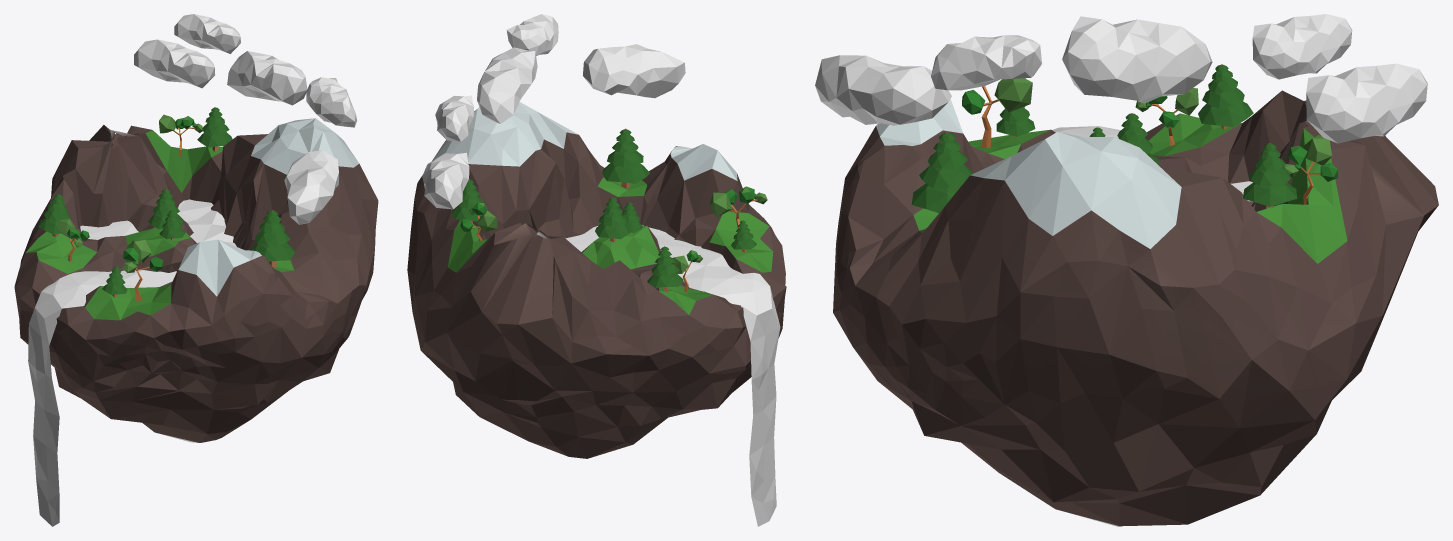
Rendered from PolyIsland.fbx.
3 views of the same model, side by side, from view 1: azimuth 30°, elevation 25°; view 2: azimuth 150°, elevation 25°; view 3: azimuth 270°, elevation 25° (orthographic). The views are drawn at different scales.
Visible parts, largest first — view 1: Icosphere, Plane, Icosphere.003, Icosphere.002, Icosphere.001, Icosphere.005, Icosphere.004, Plane.003, Cube, Plane.005, Plane.004, Plane.001 (+4 smaller); view 2: Icosphere, Plane, Icosphere.002, Icosphere.003, Icosphere.001, Plane.003, Icosphere.005, Icosphere.004, Cube, Plane.001, Plane.004, Cube.001 (+2 smaller); view 3: Icosphere, Icosphere.003, Icosphere.001, Icosphere.002, Icosphere.004, Icosphere.005, Plane.003, Plane.004, Plane.005, Cube, Cube.001, Cube.003 (+2 smaller).
Boxes of the visible parts, left/top/right/bottom form: Icosphere: left=14, top=118, right=378, bottom=442; Plane: left=28, top=199, right=236, bottom=526; Icosphere.003: left=227, top=51, right=307, bottom=105; Icosphere.002: left=284, top=150, right=338, bottom=224; Icosphere.001: left=134, top=39, right=214, bottom=88; Icosphere.005: left=306, top=77, right=356, bottom=127; Icosphere.004: left=174, top=14, right=240, bottom=53; Plane.003: left=250, top=210, right=294, bottom=267; Cube: left=123, top=239, right=162, bottom=301; Plane.005: left=197, top=107, right=232, bottom=151; Plane.004: left=38, top=194, right=70, bottom=236; Plane.001: left=148, top=189, right=183, bottom=229; Icosphere: left=407, top=102, right=786, bottom=458; Plane: left=565, top=225, right=780, bottom=526; Icosphere.002: left=583, top=44, right=685, bottom=98; Icosphere.003: left=477, top=47, right=537, bottom=123; Icosphere.001: left=422, top=153, right=469, bottom=209; Plane.003: left=602, top=128, right=649, bottom=188; Icosphere.005: left=506, top=14, right=558, bottom=55; Icosphere.004: left=435, top=95, right=473, bottom=141; Cube: left=709, top=186, right=767, bottom=232; Plane.001: left=595, top=197, right=631, bottom=242; Plane.004: left=647, top=246, right=683, bottom=292; Cube.001: left=460, top=203, right=497, bottom=240; Icosphere: left=833, top=90, right=1438, bottom=526; Icosphere.003: left=1062, top=16, right=1212, bottom=103; Icosphere.001: left=1306, top=63, right=1427, bottom=143; Icosphere.002: left=815, top=55, right=951, bottom=125; Icosphere.004: left=1252, top=14, right=1352, bottom=79; Icosphere.005: left=931, top=35, right=1041, bottom=90; Plane.003: left=911, top=132, right=973, bottom=212; Plane.004: left=1198, top=64, right=1253, bottom=129; Plane.005: left=1243, top=143, right=1297, bottom=208; Cube: left=962, top=78, right=1032, bottom=148; Cube.001: left=1283, top=135, right=1338, bottom=204; Cube.003: left=1135, top=88, right=1198, bottom=146.
Size of the model in its own units: 1998 by 2390 by 2163.
